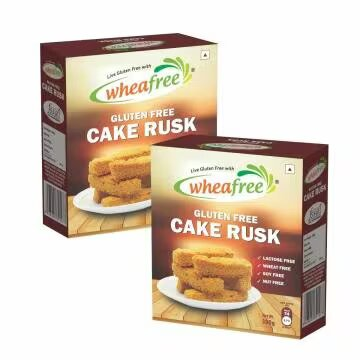non_veg: (283, 160, 297, 181), (200, 50, 215, 67)
